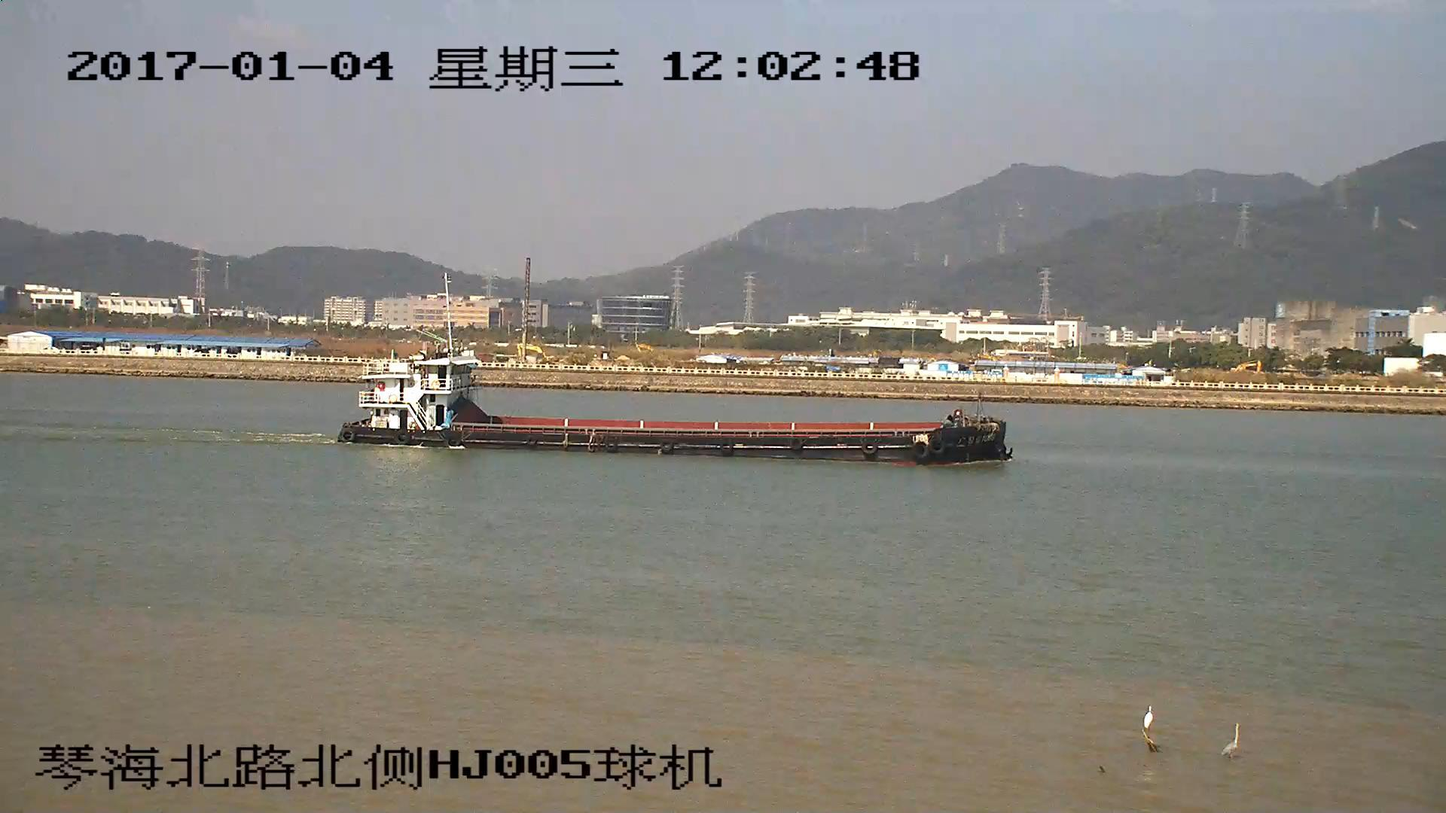general cargo ship: (334, 356, 1011, 465)
